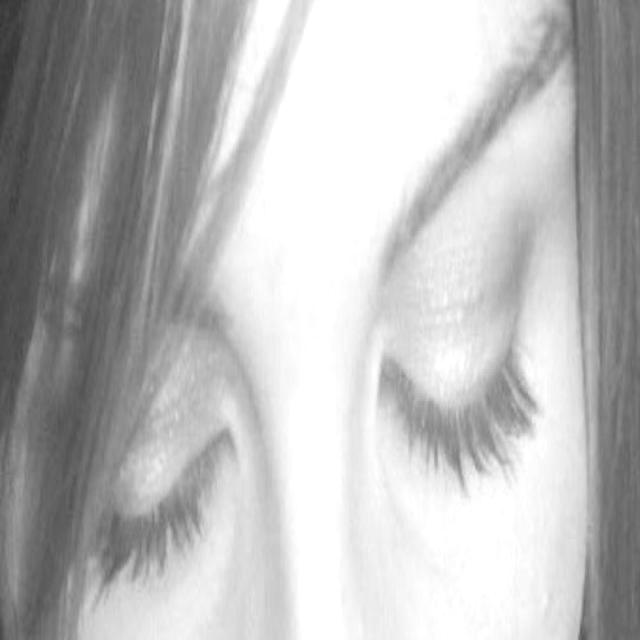real: (86, 124, 549, 634)
